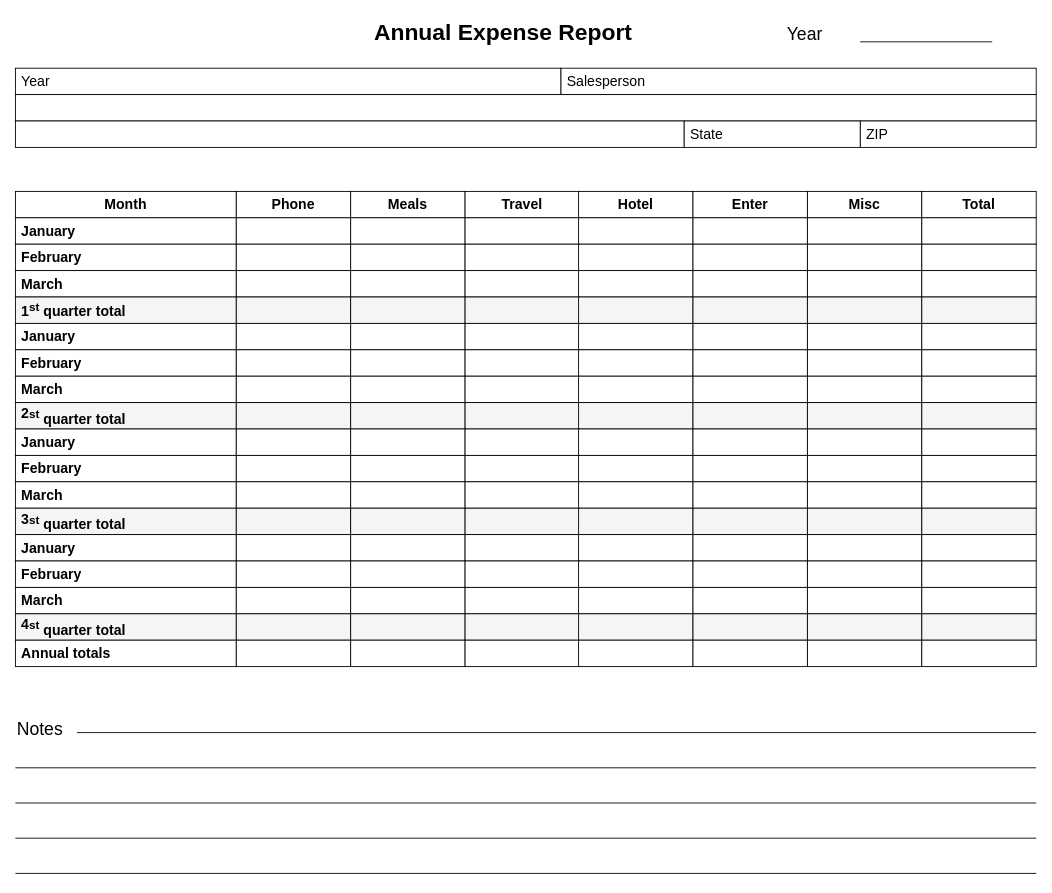
Some shapes in this 1052 by 893 pixel diagram are drawn without their labels. Each missing label, with the centre of its shape:
"Address" belongs at [525,107].
"City" belongs at [349,133].
